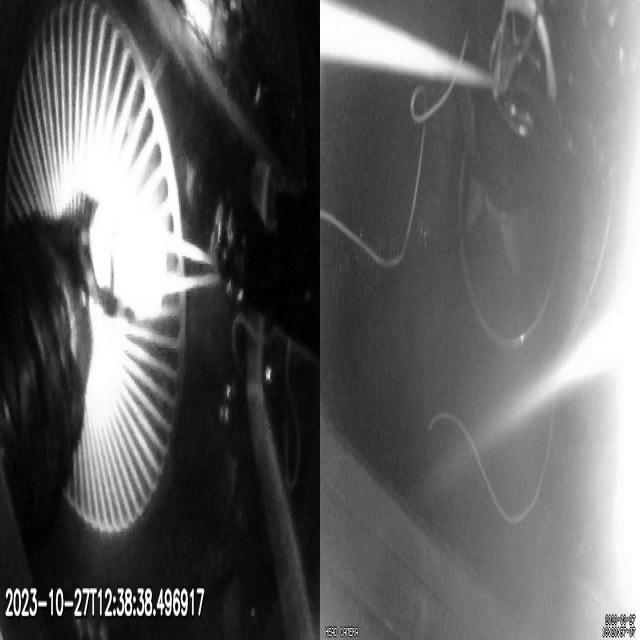head: (90, 200, 166, 321)
